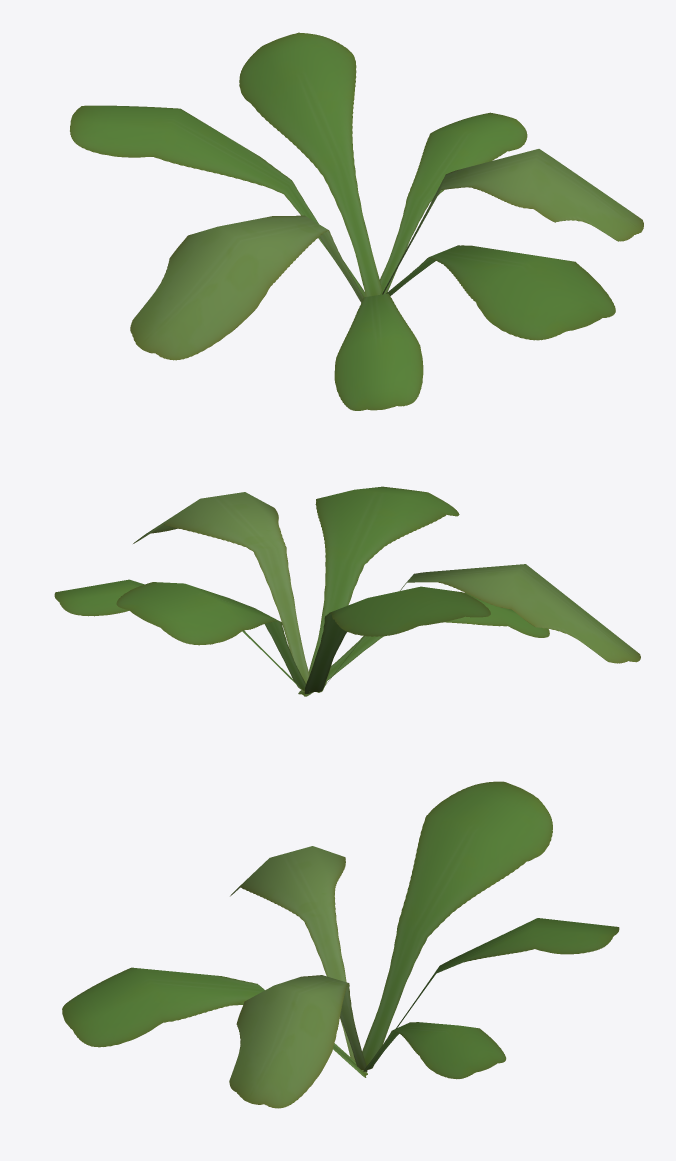
Rendered from Plant01.glb.
3 views of the same model, one above another, from view 1: azimuth 30°, elevation 25°; view 2: azimuth 150°, elevation 25°; view 3: azimuth 270°, elevation 25° (orthographic). The views are drawn at different scales.
Visible parts, largest first — view 1: plant01; view 2: plant01; view 3: plant01.
Boxes of the visible parts, x1,y1,x2,y2 form: plant01: [70, 32, 643, 410]; plant01: [54, 486, 640, 696]; plant01: [62, 781, 619, 1108].
Size of the model in its own units: 1.93 by 0.7303 by 2.02.
Materials: 1 (1 with a texture image).
